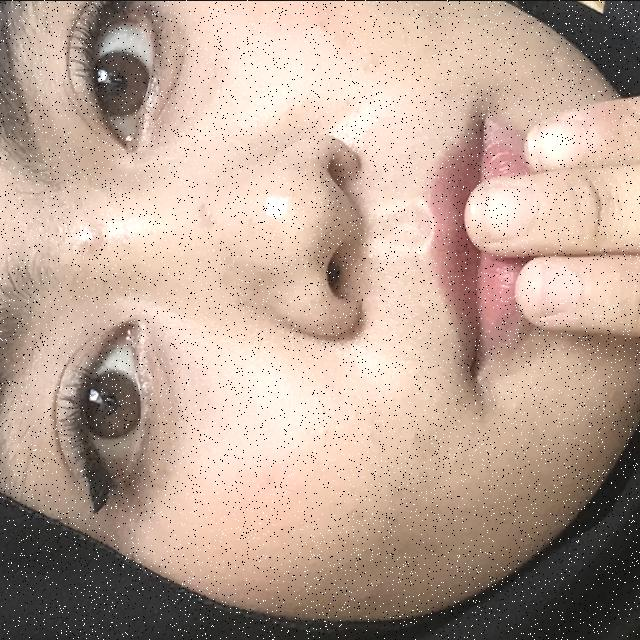ganteng: (411, 0, 640, 515)
